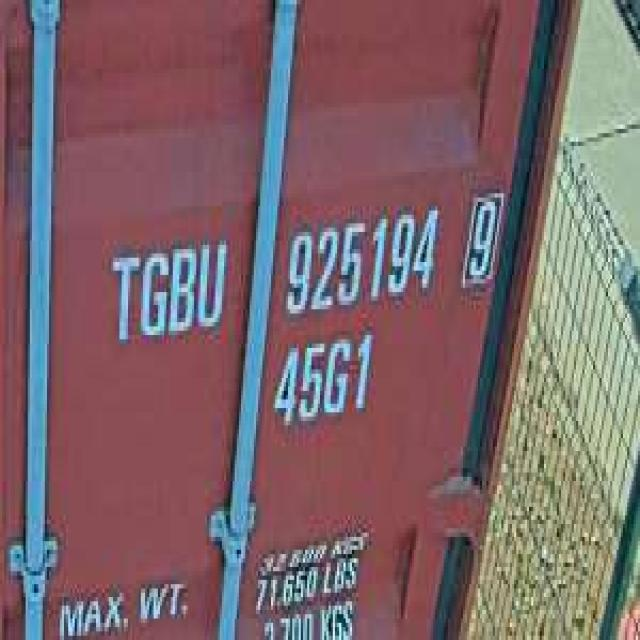dv: (458, 180, 504, 296)
owner: (102, 223, 230, 348)
serial: (277, 198, 442, 322)
size: (269, 331, 375, 434)
